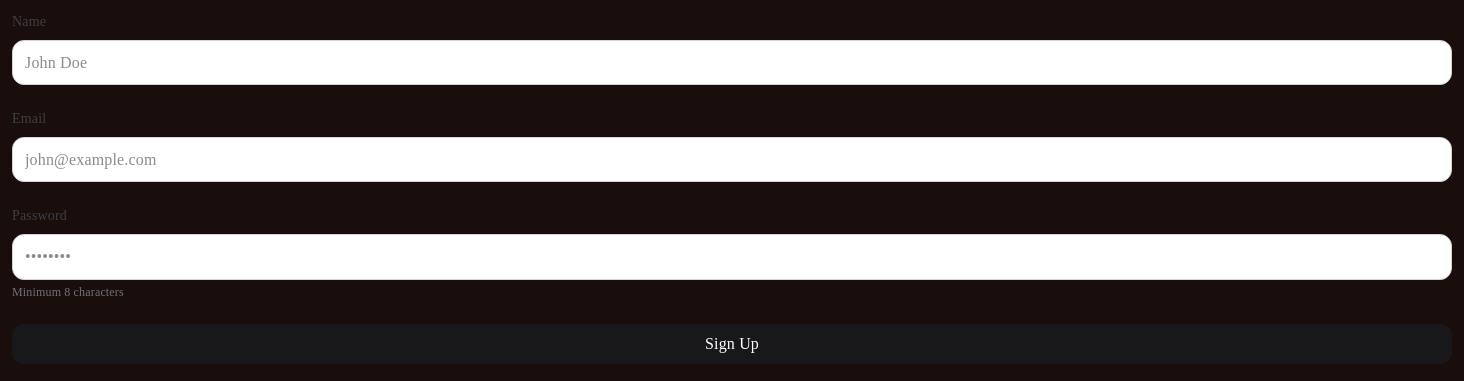
Test case: SignUpForm › should show loading state during submission
The width and height of the screenshot is (1464, 381).
Type "Test User" into the field labelled "Name" at (732, 63), box [12,40,1452,85]
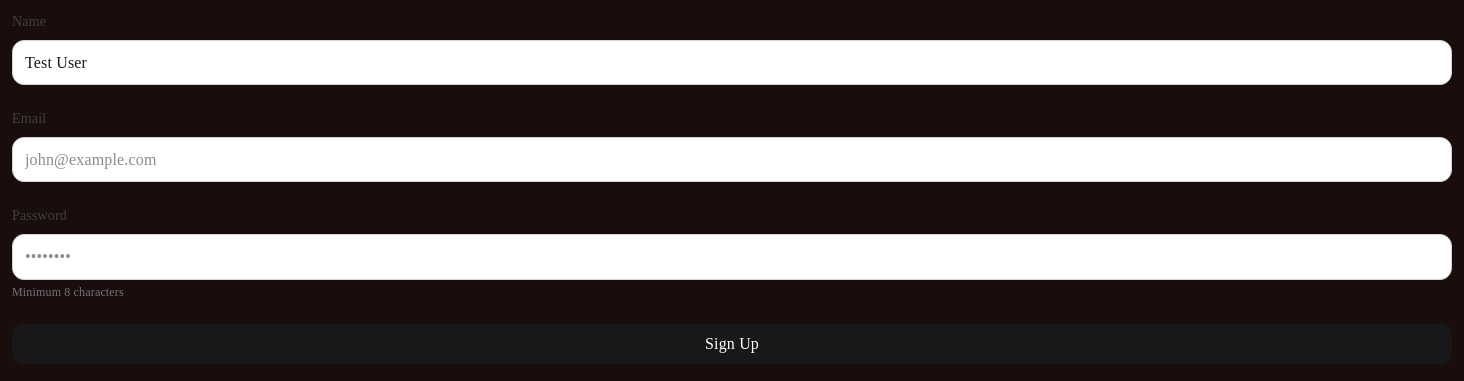
Type "test@example.com" into the field labelled "Email" at (732, 160), box [12,137,1452,182]
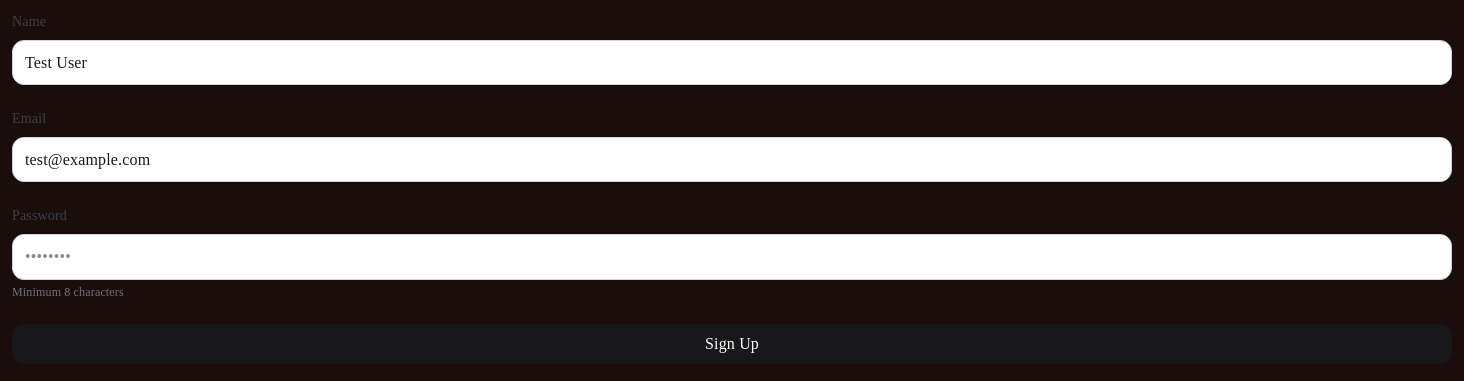
Type "password123" into the password field labelled "Password" at (732, 257), box [12,234,1452,280]
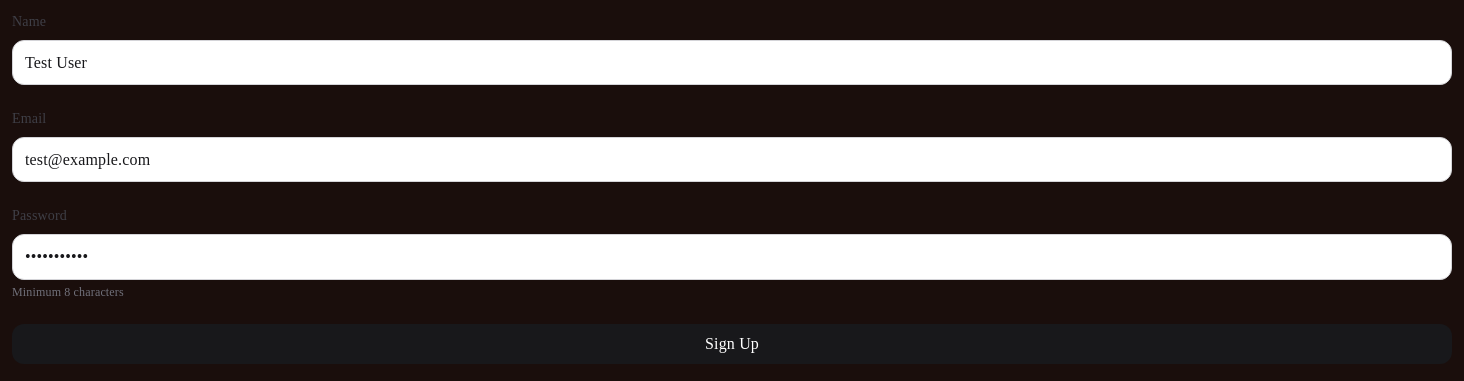
Click the button "Sign Up" at (732, 344), box [12,324,1452,364]
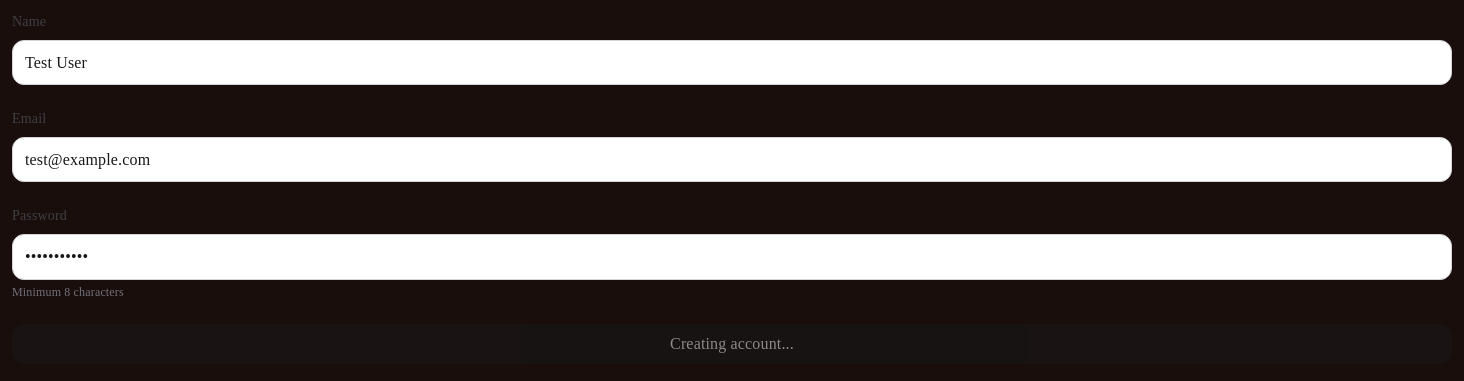
expect the button "Creating account..." is shown: met, box [12,324,1452,364]
